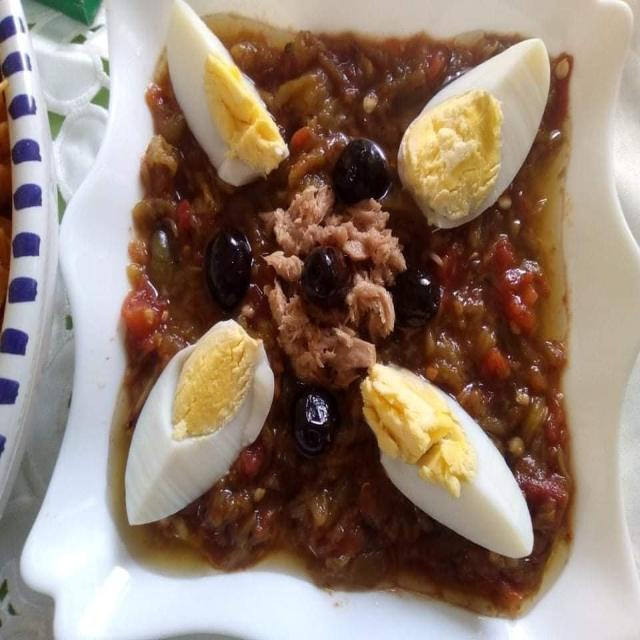Salade mechweya: (109, 13, 624, 613)
